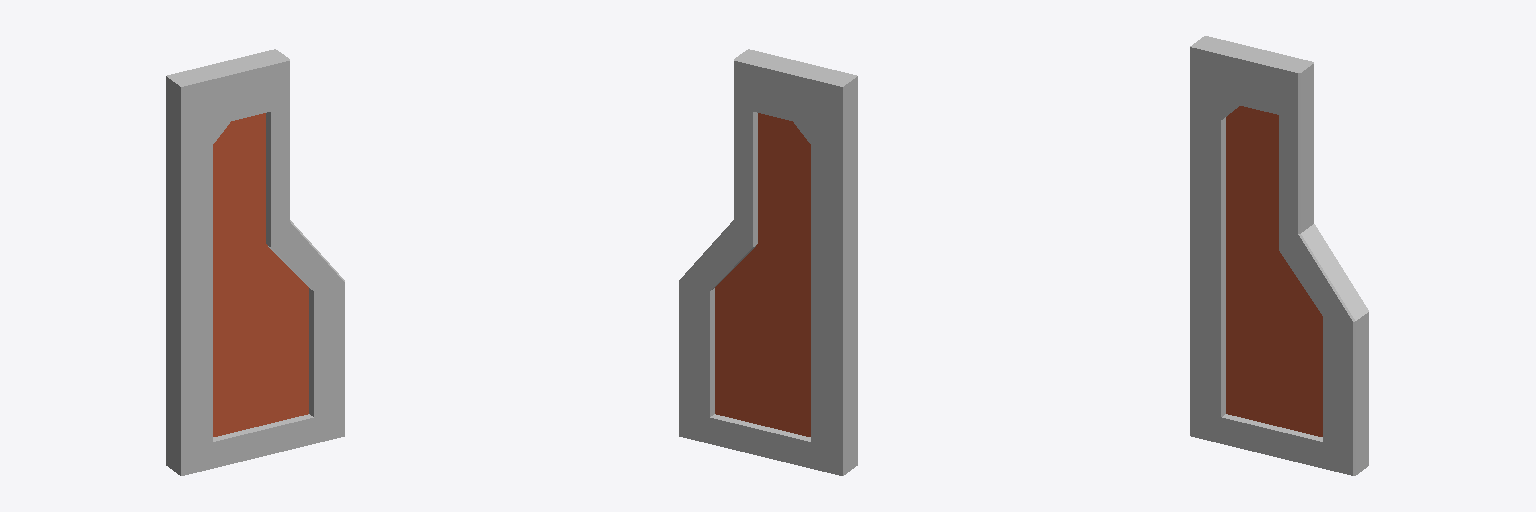
The model's file is door1.obj.
3 views of the same model, side by side, from view 1: azimuth 30°, elevation 25°; view 2: azimuth 150°, elevation 25°; view 3: azimuth 330°, elevation 25° (orthographic).
Parts seen in each view (by area): view 1: Cube; view 2: Cube; view 3: Cube.
Part boxes in pixels (x1,y1,x2,y2): Cube: (166,49,344,475); Cube: (679,49,857,475); Cube: (1190,36,1368,475).
Size of the model in its own units: 1.2 by 2.71 by 0.1949.